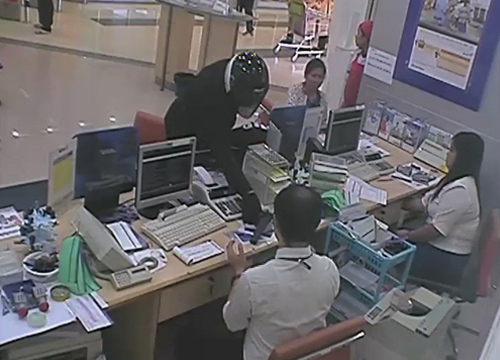Helmet: (214, 46, 281, 120)
gun: (239, 208, 278, 251)
